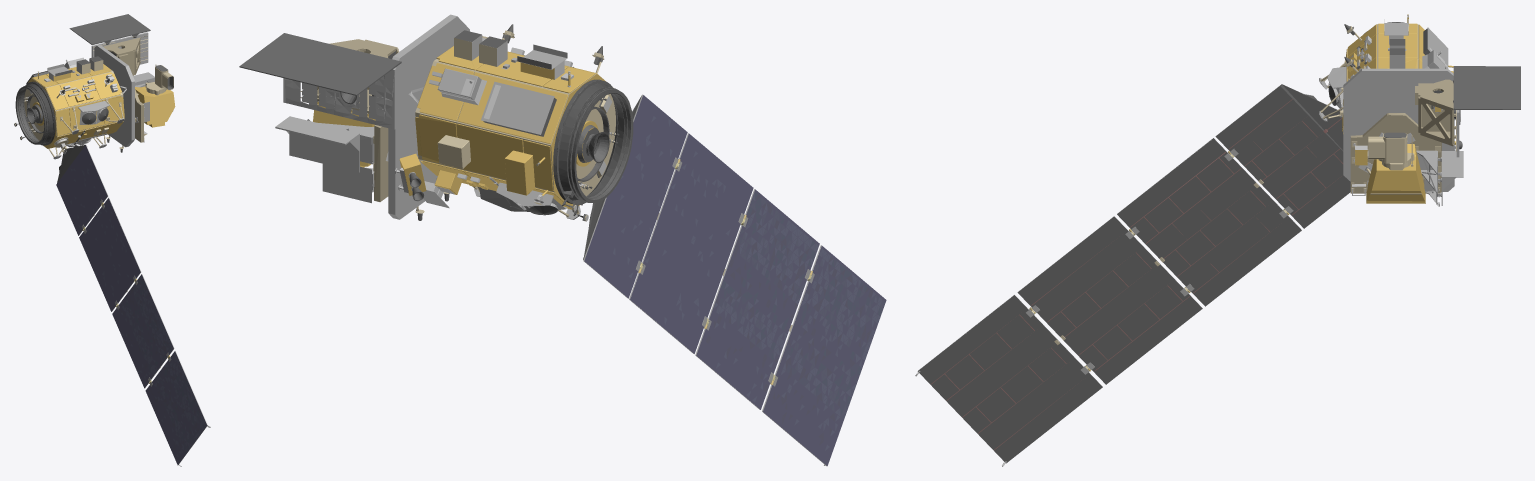
File: landsat-8.glb
3 views of the same model, side by side, from view 1: azimuth 30°, elevation 25°; view 2: azimuth 150°, elevation 25°; view 3: azimuth 270°, elevation 25° (orthographic). The views are drawn at different scales.
Parts seen in each view (by area): view 1: Layer_0; view 2: Layer_0; view 3: Layer_0.
Part boxes in pixels (x1,y1,x2,y2): Layer_0: (14, 14, 210, 466); Layer_0: (239, 14, 886, 466); Layer_0: (915, 14, 1520, 466).
Bounding box in the file's own units: 4.97 × 10.04 × 12.26.
